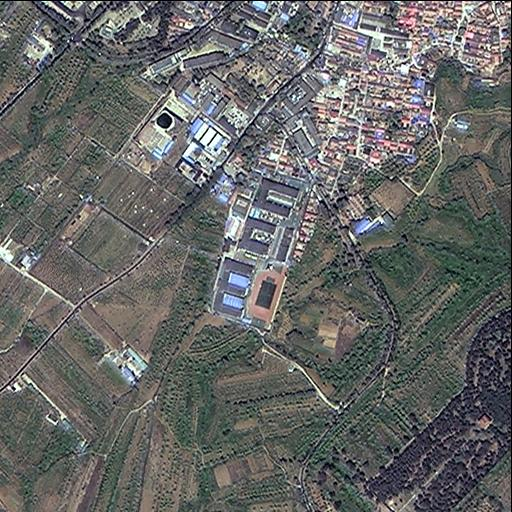school: (208, 177, 307, 324)
